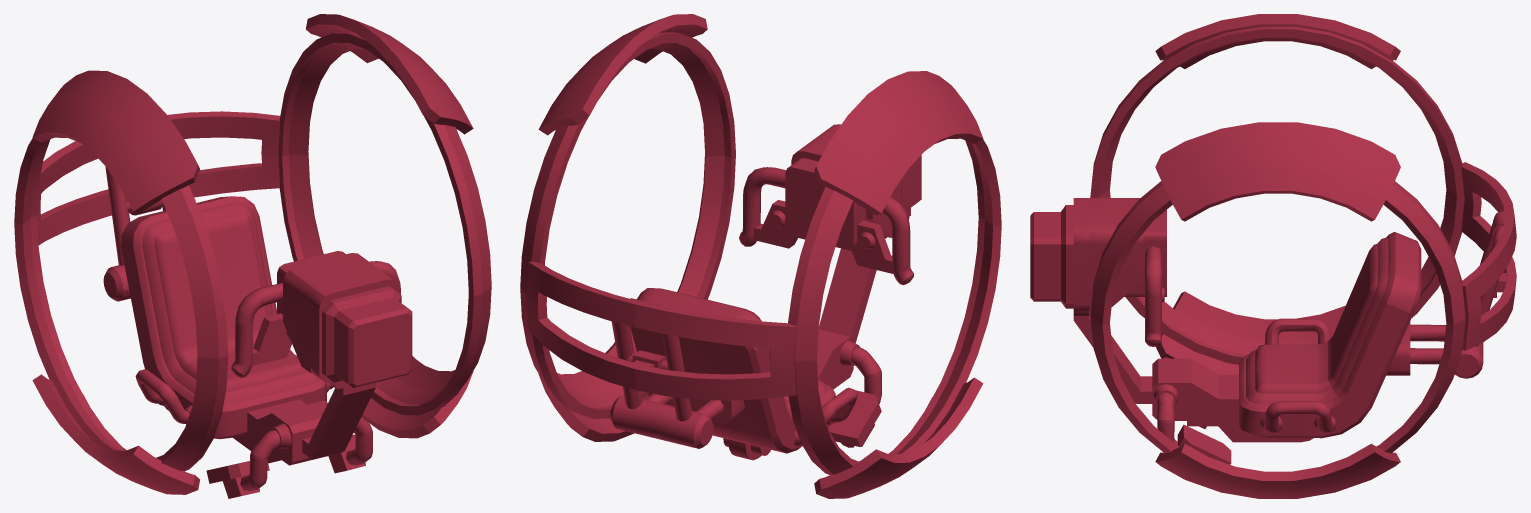
Rendered from obj_interactive_turretseat_01_sphere.fbx.
3 renders of one model, left to right at view 1: azimuth 30°, elevation 25°; view 2: azimuth 150°, elevation 25°; view 3: azimuth 270°, elevation 25°, orthographic. The views are drawn at different scales.
Parts seen in each view (by area): view 1: 11_lp.002; view 2: 11_lp.002; view 3: 11_lp.002.
Boxes of the visible parts, x1,y1,x2,y2 form: 11_lp.002: [14, 14, 491, 498]; 11_lp.002: [520, 14, 1001, 498]; 11_lp.002: [1030, 14, 1516, 498].
Bounding box in the file's own units: 5.31 × 5.94 × 6.86.
